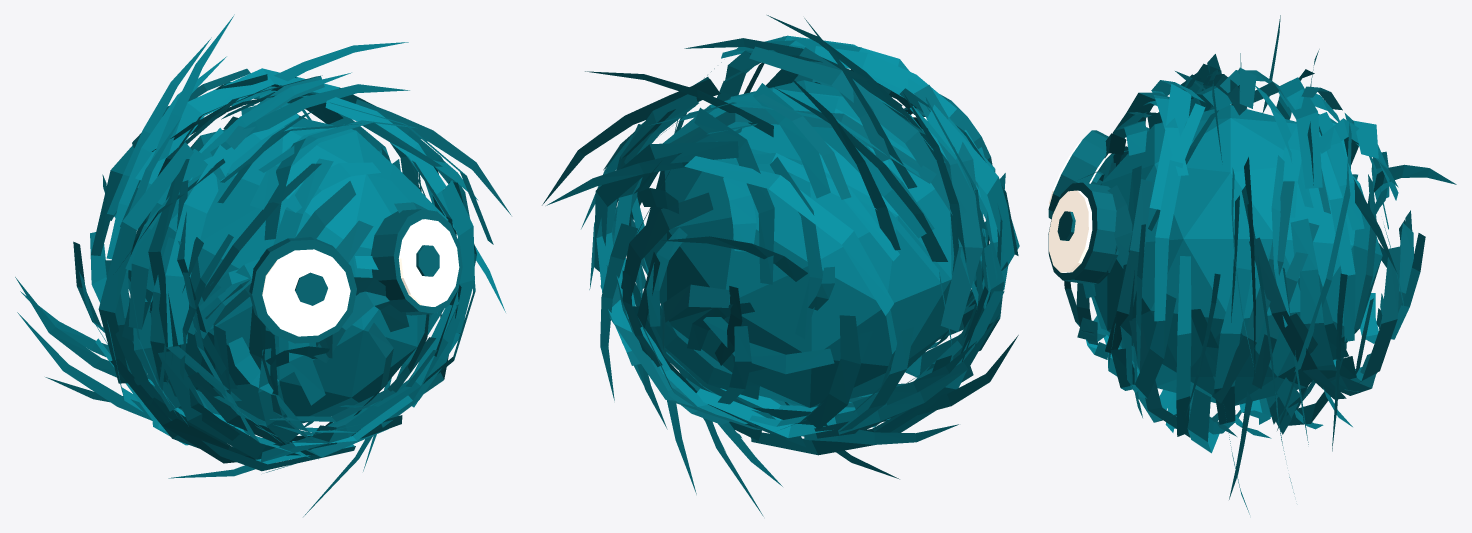
Rendered from bolita-rica-turquesa.glb.
3 renders of one model, left to right at view 1: azimuth 30°, elevation 25°; view 2: azimuth 150°, elevation 25°; view 3: azimuth 270°, elevation 25°, orthographic. The views are drawn at different scales.
Visible parts, largest first — view 1: bolita-cuerpo; view 2: bolita-cuerpo; view 3: bolita-cuerpo.
Boxes of the visible parts, left/top/right/bottom form: bolita-cuerpo: left=15, top=14, right=511, bottom=516; bolita-cuerpo: left=542, top=15, right=1019, bottom=516; bolita-cuerpo: left=1048, top=15, right=1456, bottom=514.
Size of the model in its own units: 0.4477 by 0.4538 by 0.3495.
